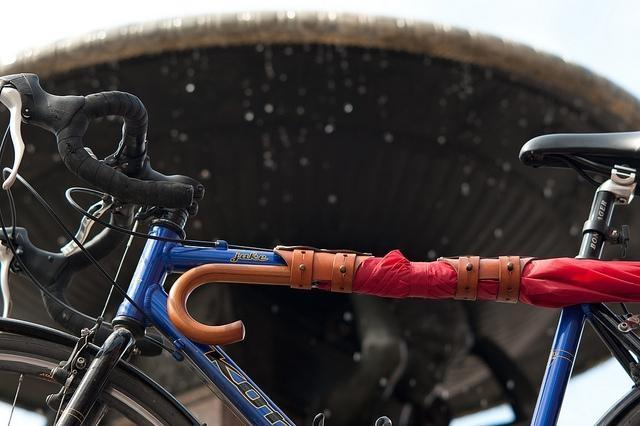bicycle: (0, 75, 640, 426)
